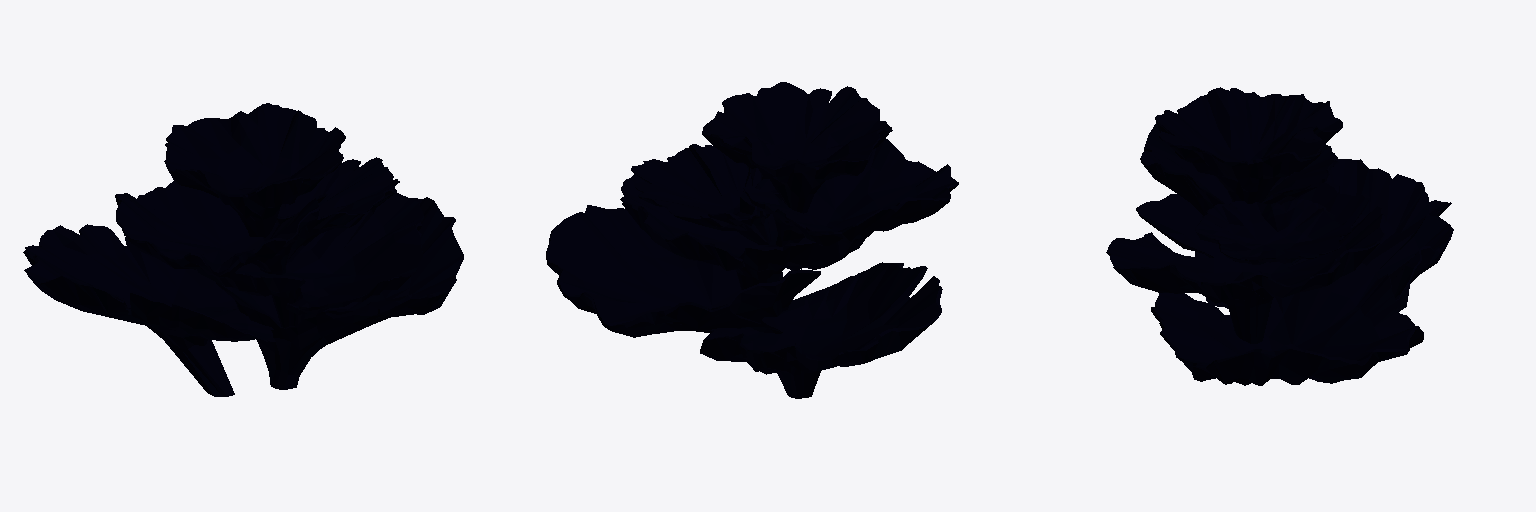
The model's file is Object_MontiporaCoral3.obj.
3 views of the same model, side by side, from view 1: azimuth 30°, elevation 25°; view 2: azimuth 150°, elevation 25°; view 3: azimuth 270°, elevation 25° (orthographic).
Visible parts, largest first — view 1: MontiporaCoral3; view 2: MontiporaCoral3; view 3: MontiporaCoral3.
Part boxes in pixels (x1,y1,x2,y2): MontiporaCoral3: (23,103,463,396); MontiporaCoral3: (546,82,958,398); MontiporaCoral3: (1106,87,1453,385).
Bounding box in the file's own units: 4.11 × 2.64 × 3.19.